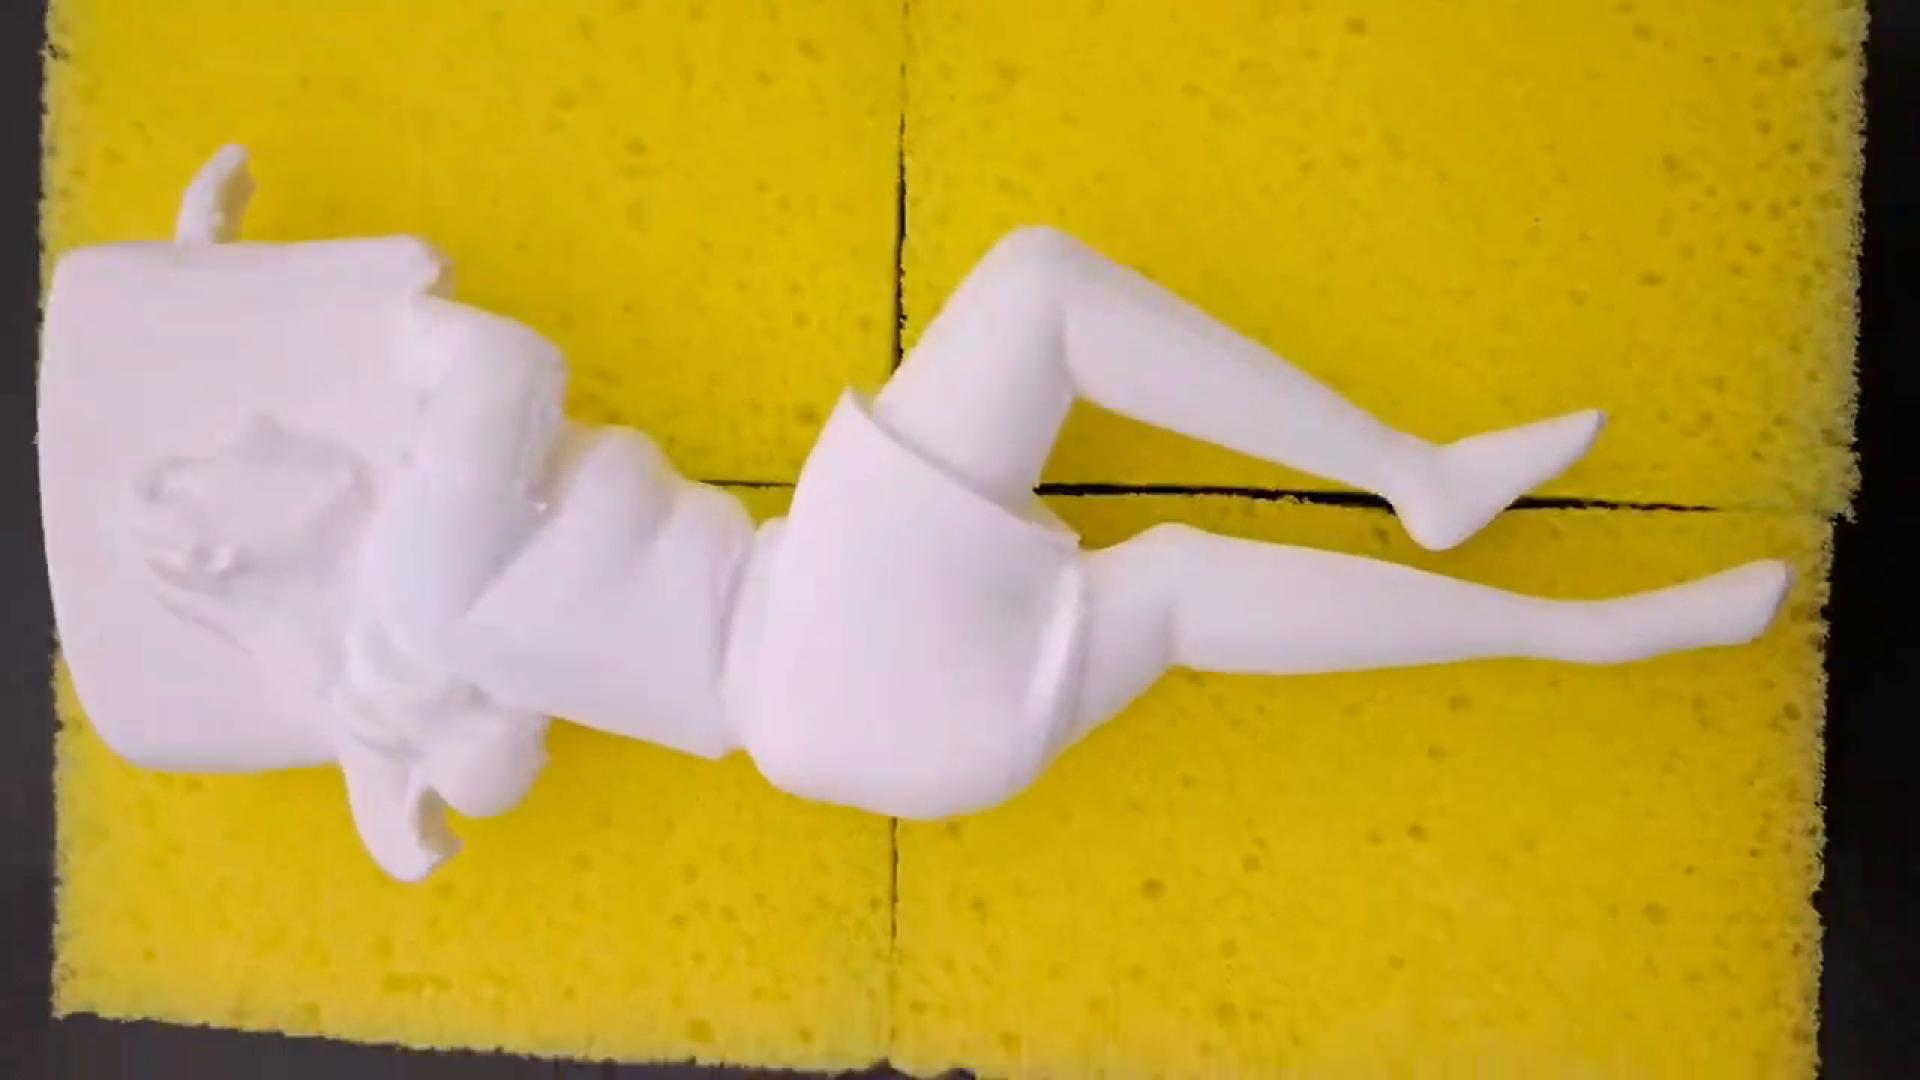Good-style: (30, 148, 1791, 893)
